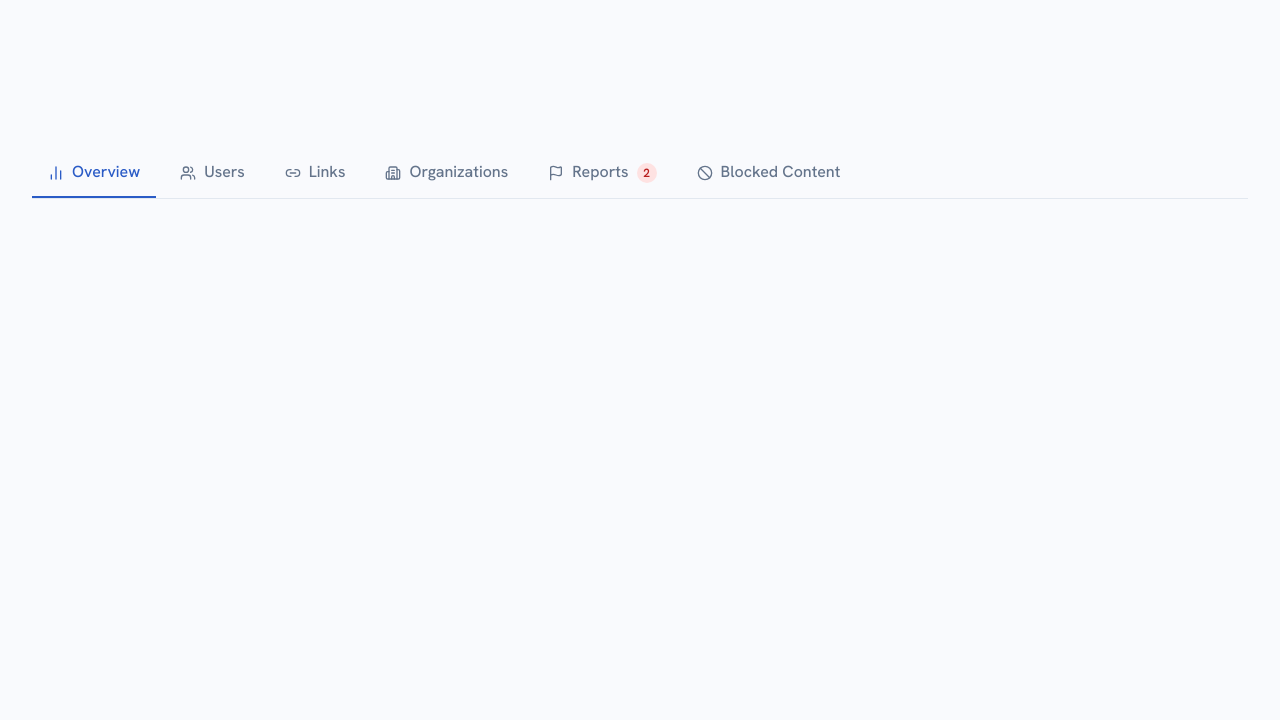
Test: Admin Page › Overview Tab › says the session ended, not that the action failed, when an action is rejected
Click the button "Links".
click(315, 173)  # box [269,148,361,198]
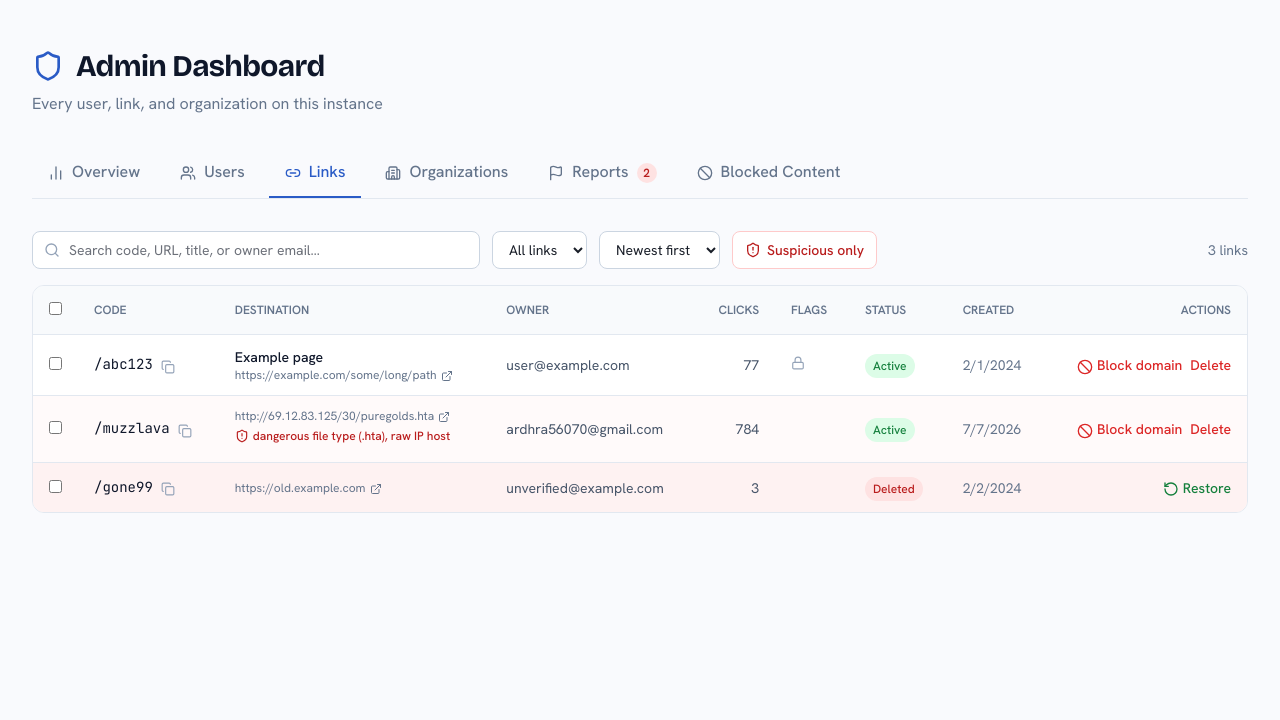
Click the button "Delete" in the row of "abc123".
click(1211, 365)  # box [1190,355,1231,375]
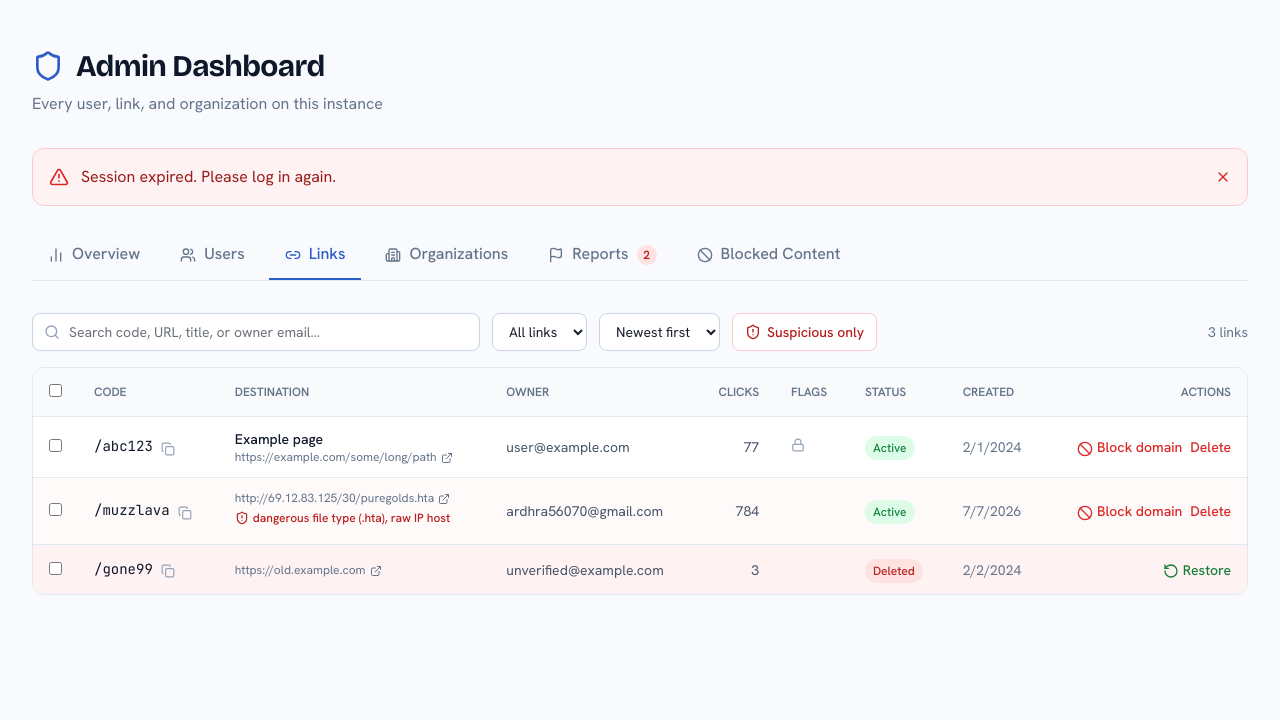
Result: the text "Session expired. Please log in again." is shown at [81,165,336,189]
